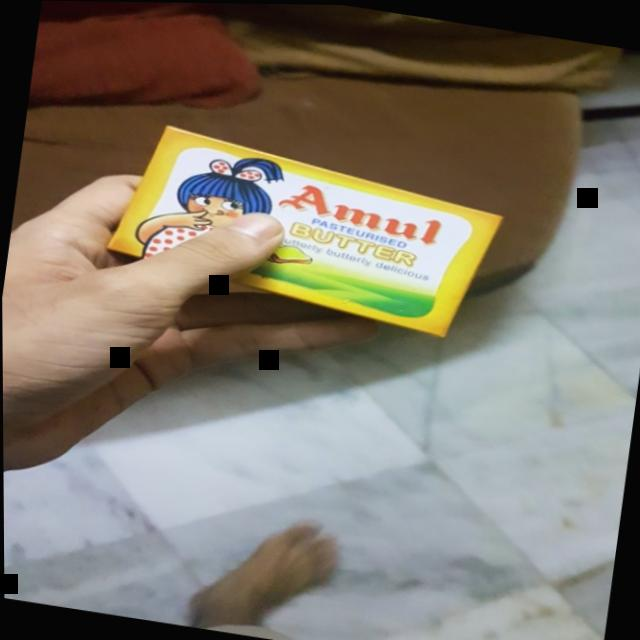butter: (98, 112, 510, 342)
